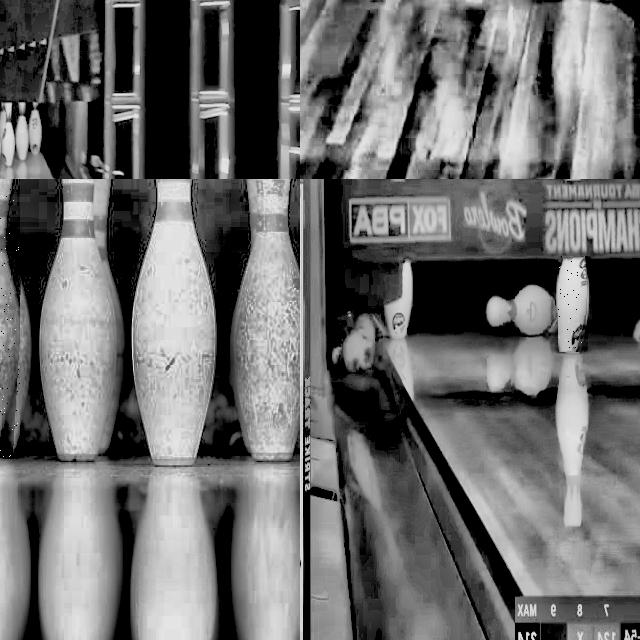bowling-pins: (131, 179, 217, 466), (39, 179, 115, 462), (232, 179, 300, 462), (92, 179, 125, 454), (558, 256, 588, 352), (246, 179, 257, 245)
sweep board: (347, 179, 640, 258)
